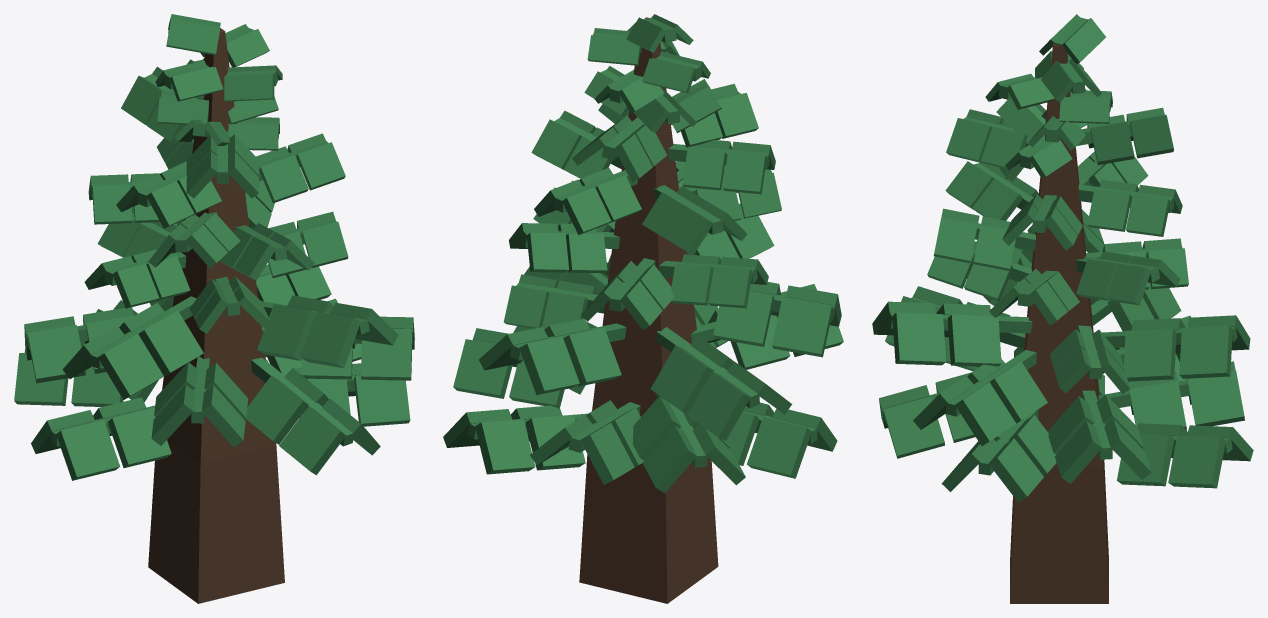
Rendered from PineTree.gltf.
The picture shows the model from 3 angles, left to right: view 1: azimuth 30°, elevation 25°; view 2: azimuth 150°, elevation 25°; view 3: azimuth 270°, elevation 25°; orthographic projection. The views are drawn at different scales.
Parts seen in each view (by area): view 1: Leaf (×64), Trunk, Branch (×3); view 2: Leaf (×64), Trunk, Branch (×10); view 3: Leaf (×61), Trunk, Branch (×7).
Part boxes in pixels (x1=…): Leaf (×64): x1=14, y1=21, x2=412, y2=480; Trunk: x1=148, y1=28, x2=284, y2=603; Branch (×3): x1=90, y1=296, x2=354, y2=446; Leaf (×64): x1=443, y1=17, x2=841, y2=493; Trunk: x1=579, y1=17, x2=718, y2=603; Branch (×10): x1=509, y1=117, x2=769, y2=467; Leaf (×61): x1=872, y1=18, x2=1253, y2=502; Trunk: x1=1010, y1=43, x2=1108, y2=603; Branch (×7): x1=887, y1=184, x2=1173, y2=475.
Size of the model in its own units: 3.75 by 6.13 by 3.84.
1 material, 1 textured.
